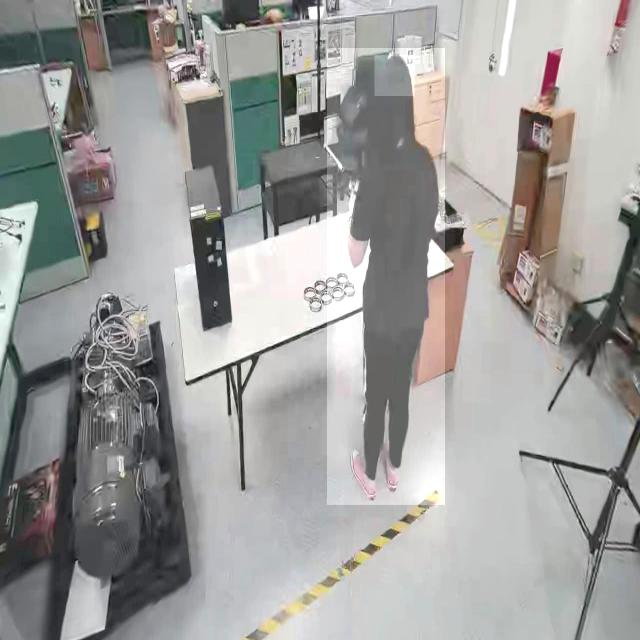head_nohelmet: (374, 55, 414, 97)
person: (327, 48, 445, 506)
shoes: (350, 442, 380, 504), (382, 432, 401, 494)
